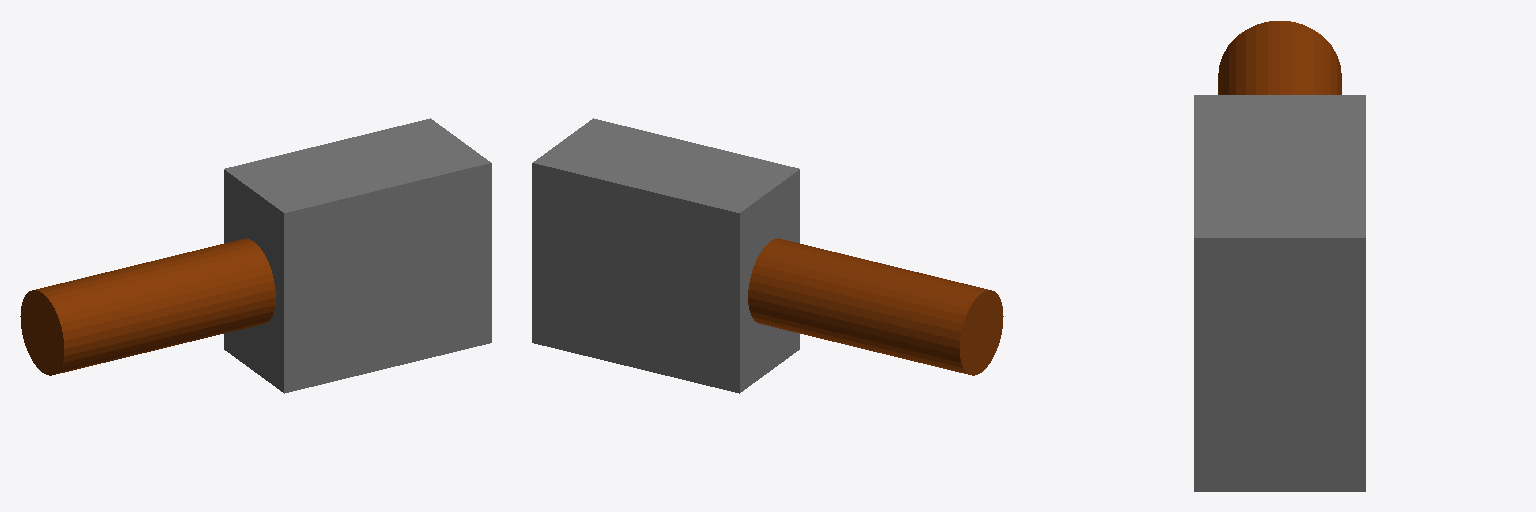
URDF robot description (handle_head):
<?xml version="1.0"?>
<robot name="handle_head">

  <link name="handle_head">
    <!-- Handle -->
    <visual>
              <origin xyz="0 0 0" rpy="0 -1.5707963267948966 0"/>
        <geometry>
          <cylinder length="0.07936768055715836" radius="0.014270867548169138"/>
        </geometry>
        
      <material name="brown">
        <color rgba="0.55 0.27 0.07 1.0"/>
      </material>
    </visual>
    <collision>
              <origin xyz="0 0 0" rpy="0 -1.5707963267948966 0"/>
        <geometry>
          <cylinder length="0.07936768055715836" radius="0.014270867548169138"/>
        </geometry>
        
    </collision>

    <!-- Head -->
    <visual>
              <origin xyz="0.07855022138796841 0 0" rpy="0 0 0"/>
        <geometry>
          <box size="0.07773276221877848 0.03948393469467719 0.06461095985592213"/>
        </geometry>
        
      <material name="gray">
        <color rgba="0.5 0.5 0.5 1.0"/>
      </material>
    </visual>
    <collision>
              <origin xyz="0.07855022138796841 0 0" rpy="0 0 0"/>
        <geometry>
          <box size="0.07773276221877848 0.03948393469467719 0.06461095985592213"/>
        </geometry>
        
    </collision>

    <inertial>
      <origin xyz="0.0622389930866798 0 0" rpy="0 0 0"/>
      <mass value="0.12252429403120697"/>
      <inertia ixx="4.887587630772762e-05" iyy="0.0002290993141317116" izz="0.00020793878069919666" ixy="0" ixz="0" iyz="0"/>
    </inertial>
  </link>

</robot>

--- Render facts (derived) ---
The picture shows the robot from 3 angles, left to right: view 1: azimuth 30°, elevation 25°; view 2: azimuth 150°, elevation 25°; view 3: azimuth 270°, elevation 25°; orthographic projection.
Model handle_head with 1 links and 0 joints (none), rooted at handle_head, posed all joints at 0.
Links seen in each view (by area): view 1: handle_head; view 2: handle_head; view 3: handle_head.
Link boxes in pixels (left/top/right/bottom): handle_head: left=20, top=118, right=491, bottom=393; handle_head: left=532, top=118, right=1003, bottom=393; handle_head: left=1194, top=21, right=1365, bottom=491.
Size in the robot's own frame: 0.1571 by 0.0395 by 0.0646 metres.
Geometry: primitives only (box / cylinder / sphere), no mesh files.
